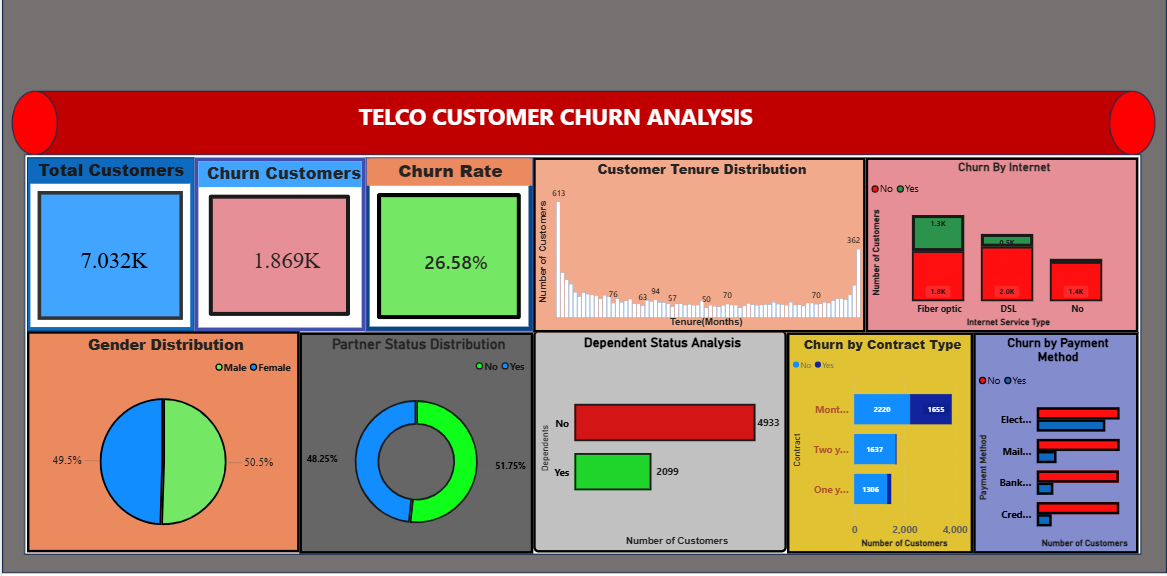

The page's visual inventory and layout, read from the dashboard file:
{"tool":"powerbi","page":{"name":"Page 1","canvas":[1920,1080],"ordinal":0},"visuals":[{"type":"cardVisual","title":"Total Customers","fields":{"Data":["Count(Telco_Customer_Churn_Dataset  (2).customerID)"]},"box":[41.2,325.2,275.8,286.1],"z":0},{"type":"cardVisual","title":"Churn Customers","fields":{"Data":["Count(Telco_Customer_Churn_Dataset  (2).customerID)"]},"box":[317,325.2,282,286.1],"z":1000},{"type":"cardVisual","title":"Churn Rate","fields":{"Data":["Telco_Customer_Churn_Dataset  (2).Churn Rate"]},"box":[599,325.2,275.8,286.1],"z":2000},{"type":"pieChart","title":"Gender Distribution","fields":{"Category":["Telco_Customer_Churn_Dataset  (2).gender"],"Y":["CountNonNull(Telco_Customer_Churn_Dataset  (2).customerID)"]},"box":[41.2,611.3,448.7,364.3],"z":3000},{"type":"donutChart","title":"Partner Status Distribution","fields":{"Category":["Telco_Customer_Churn_Dataset  (2).Partner"],"Y":["CountNonNull(Telco_Customer_Churn_Dataset  (2).customerID)"]},"box":[489.9,613.4,384.9,364.3],"z":4000},{"type":"clusteredBarChart","title":"Dependent Status Analysis","fields":{"Category":["Telco_Customer_Churn_Dataset  (2).Dependents"],"Y":["CountNonNull(Telco_Customer_Churn_Dataset  (2).customerID)"]},"box":[874.8,609.3,417.8,366.4],"z":5000},{"type":"clusteredColumnChart","title":"Customer Tenure Distribution","fields":{"Category":["Telco_Customer_Churn_Dataset  (2).tenure"],"Y":["CountNonNull(Telco_Customer_Churn_Dataset  (2).customerID)"]},"box":[874.8,325.2,547.5,288.2],"z":6000},{"type":"barChart","title":"Churn by Contract Type","fields":{"Series":["Telco_Customer_Churn_Dataset  (2).Churn"],"Category":["Telco_Customer_Churn_Dataset  (2).Contract"],"Y":["CountNonNull(Telco_Customer_Churn_Dataset  (2).customerID)"]},"box":[1292.6,613.4,306.7,364.3],"z":7000},{"type":"columnChart","title":"Churn By Internet","fields":{"Category":["Telco_Customer_Churn_Dataset  (2).InternetService"],"Y":["CountNonNull(Telco_Customer_Churn_Dataset  (2).customerID)"],"Series":["Telco_Customer_Churn_Dataset  (2).Churn"]},"box":[1422.3,325.2,448.7,288.2],"z":8000},{"type":"clusteredBarChart","title":"Churn by Payment Method","fields":{"Y":["CountNonNull(Telco_Customer_Churn_Dataset  (2).customerID)"],"Category":["Telco_Customer_Churn_Dataset  (2).PaymentMethod"],"Series":["Telco_Customer_Churn_Dataset  (2).Churn"]},"box":[1599.3,613.4,271.7,364.3],"z":9000},{"type":"textbox","box":[401.4,209.9,1020.9,115.3],"z":10000}]}

Visuals, with their boxes on the page's 1920x1080 design canvas (x1, y1, x2, y2). These are canvas units, not pixel positions in the 1167x576 screenshot, which may show the page scaled, cropped or inside an application window:
"Total Customers" cardVisual: bbox(41, 325, 317, 611)
"Churn Customers" cardVisual: bbox(317, 325, 599, 611)
"Churn Rate" cardVisual: bbox(599, 325, 875, 611)
"Gender Distribution" pieChart: bbox(41, 611, 490, 976)
"Partner Status Distribution" donutChart: bbox(490, 613, 875, 978)
"Dependent Status Analysis" clusteredBarChart: bbox(875, 609, 1293, 976)
"Customer Tenure Distribution" clusteredColumnChart: bbox(875, 325, 1422, 613)
"Churn by Contract Type" barChart: bbox(1293, 613, 1599, 978)
"Churn By Internet" columnChart: bbox(1422, 325, 1871, 613)
"Churn by Payment Method" clusteredBarChart: bbox(1599, 613, 1871, 978)
textbox: bbox(401, 210, 1422, 325)
